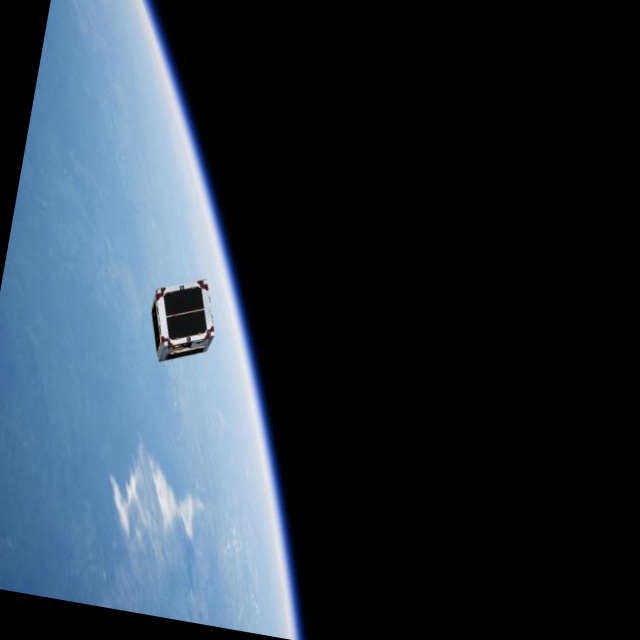medium_debris: (138, 270, 227, 374)
